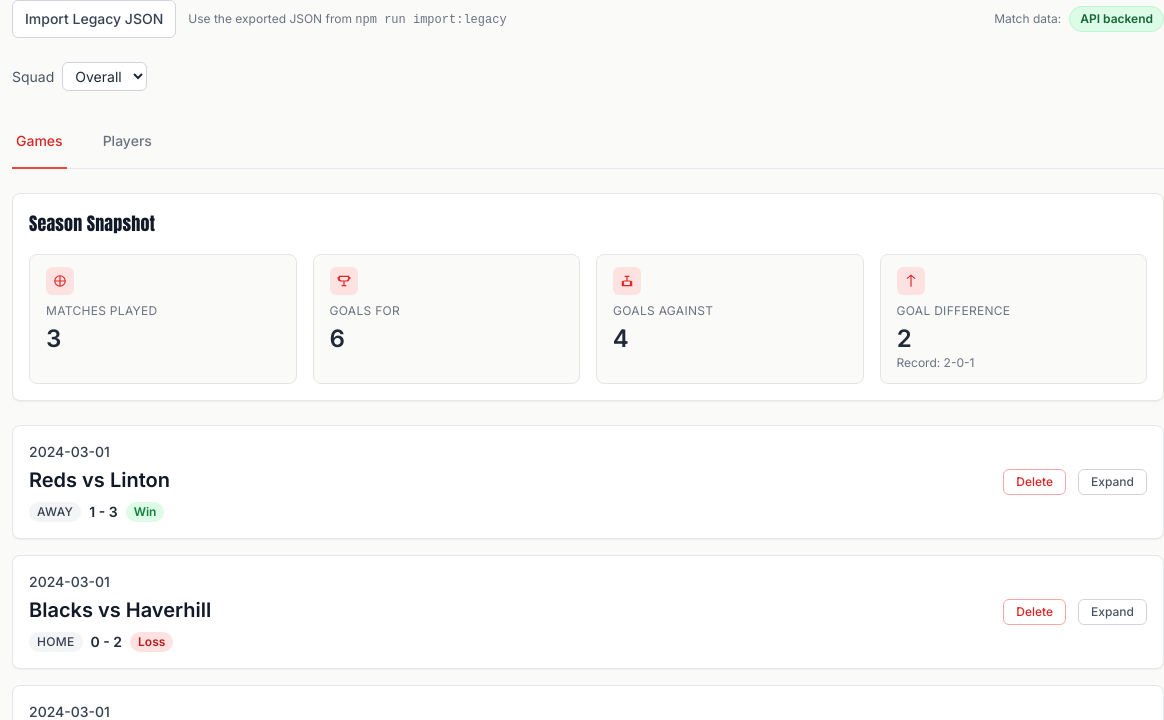
SeasonStatsView › squads › uses local totals rather than whole-team API totals when a squad is chosen
expect the text "6" is shown: met, box x1=330 y1=324 x2=345 y2=353
Step 1. Select "Reds" in the dropdown labelled "Squad" → [105, 76], box x1=62 y1=62 x2=147 y2=91
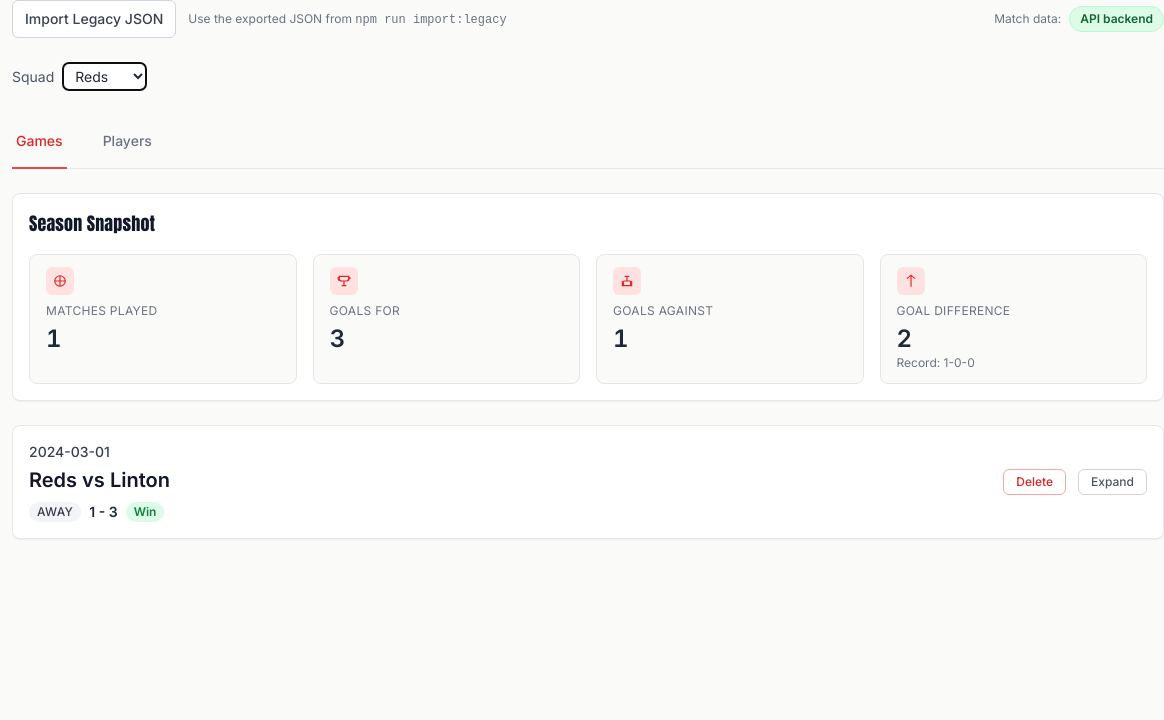
expect the text "3" is shown: met, box x1=330 y1=324 x2=345 y2=353
